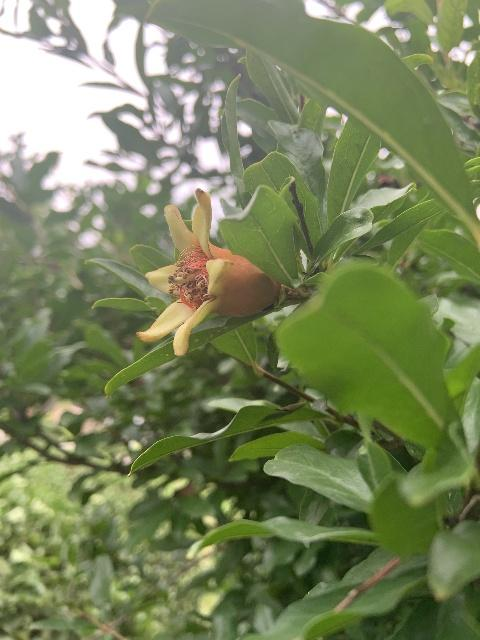early-fruit: (137, 187, 282, 357)
